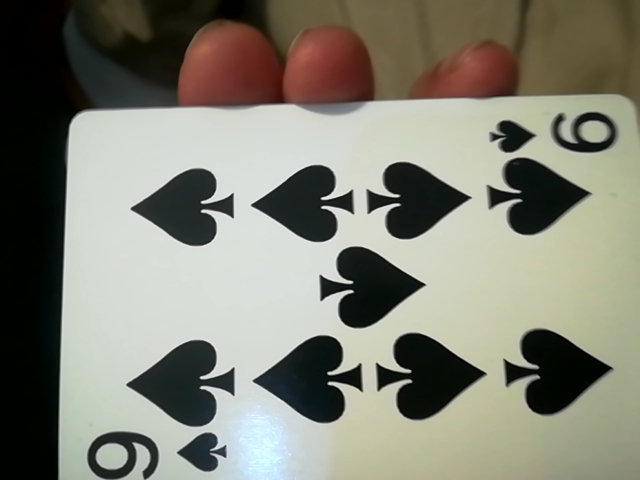ht 9: (46, 96, 630, 475)
